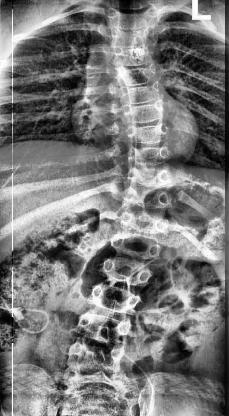Vertebrae: (77, 310, 137, 344), (66, 344, 124, 375), (98, 255, 156, 285), (112, 231, 168, 261), (89, 283, 145, 311), (124, 181, 174, 209), (126, 210, 172, 238), (129, 166, 179, 190), (121, 100, 168, 124), (128, 123, 178, 145), (114, 9, 161, 31), (130, 144, 176, 166), (112, 44, 156, 66), (121, 84, 166, 102), (118, 66, 162, 84), (113, 28, 157, 46)
